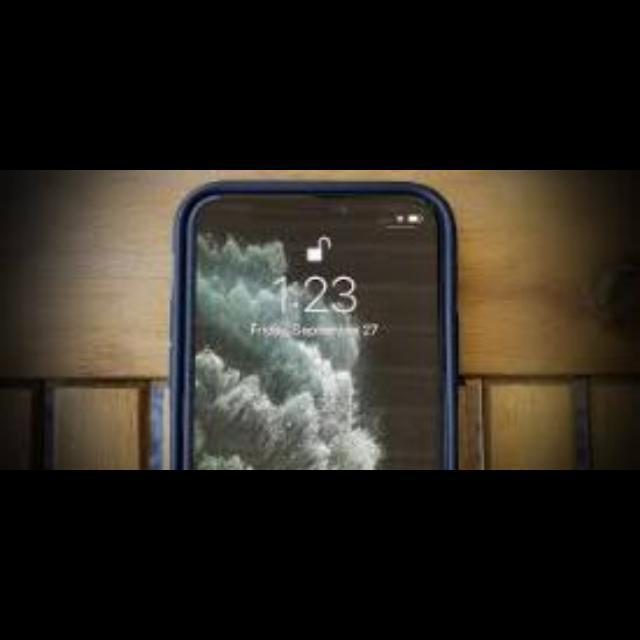phone: (171, 181, 453, 477)
